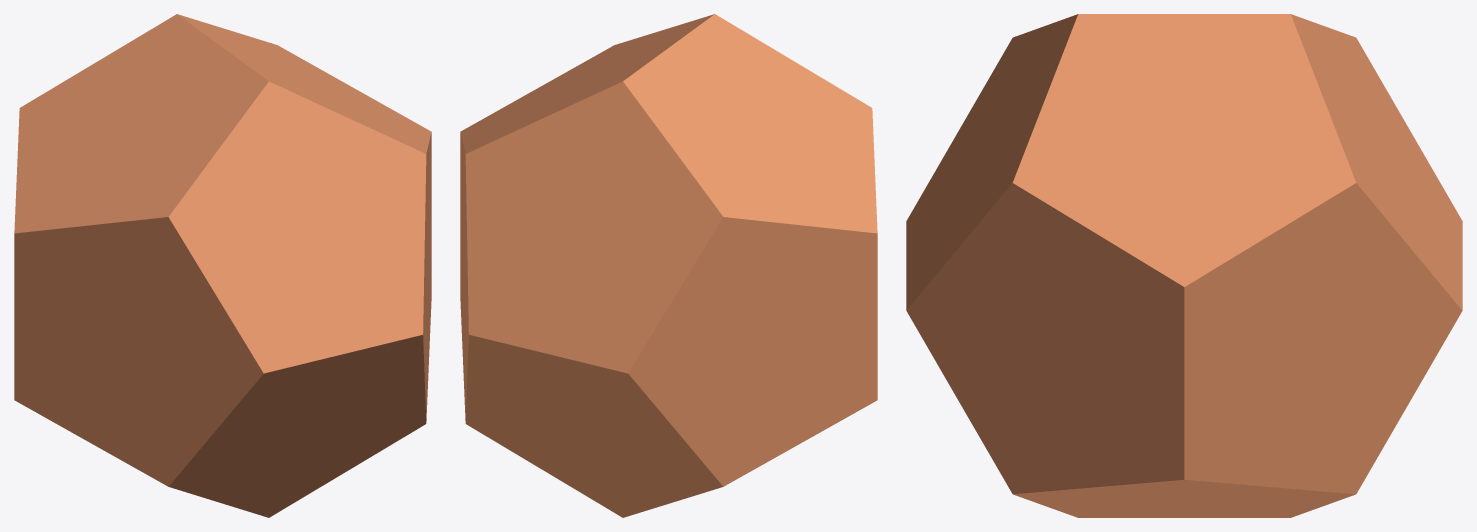
3 renders of one model, left to right at view 1: azimuth 30°, elevation 25°; view 2: azimuth 150°, elevation 25°; view 3: azimuth 270°, elevation 25°, orthographic. The views are drawn at different scales.
Parts seen in each view (by area): view 1: DieMesh; view 2: DieMesh; view 3: DieMesh.
Part boxes in pixels (bbox=[...]): DieMesh: bbox=[14, 14, 431, 517]; DieMesh: bbox=[460, 14, 877, 517]; DieMesh: bbox=[906, 14, 1462, 517].
Size of the model in its own units: 1.87 by 1.87 by 1.87.
